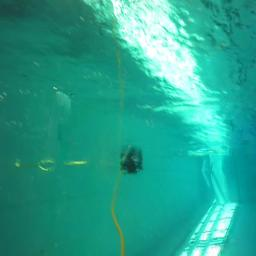Full: (119, 160, 144, 174), (121, 160, 142, 175)
